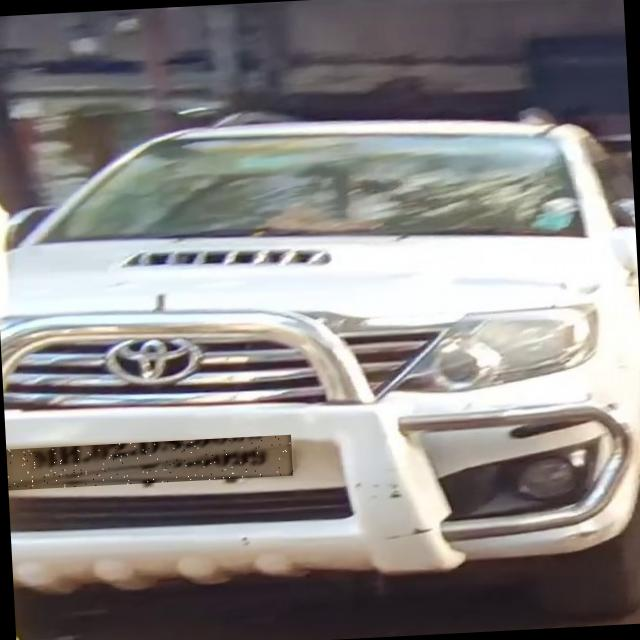Plate: (7, 436, 294, 492)
